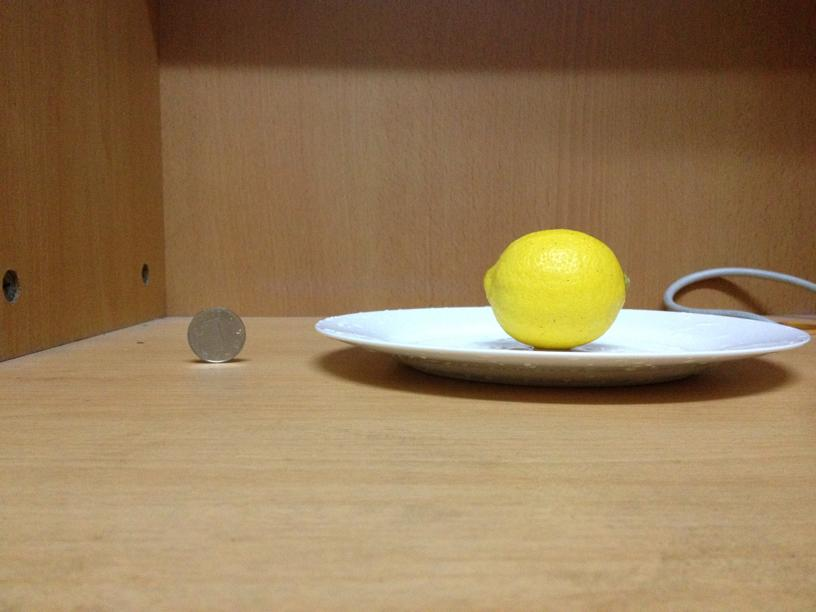coin: (187, 310, 246, 364)
lemon: (482, 227, 627, 349)
